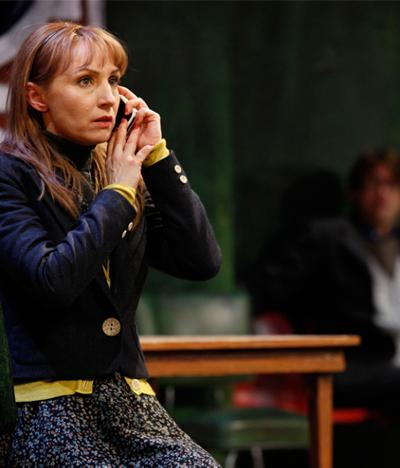person: (4, 18, 231, 467)
